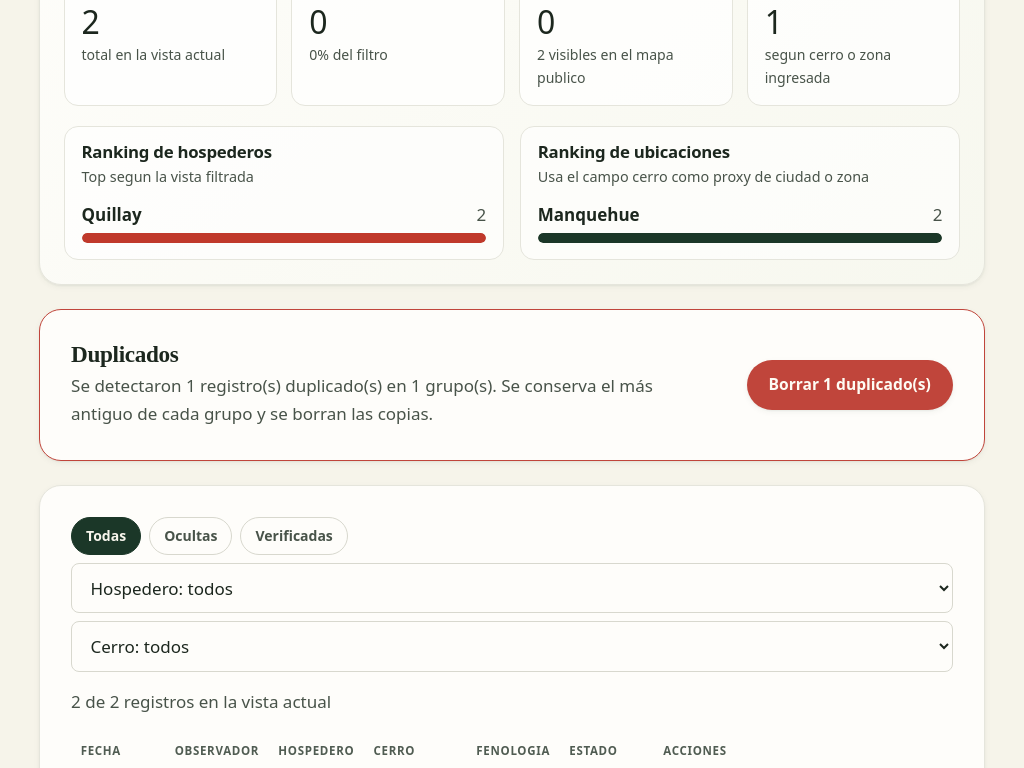
Scenario: flujo borrar duplicados › borra el duplicado al confirmar
(page scrolled)
Click the button "Borrar 1 duplicado(s)" at (850, 385), box [746, 360, 953, 410]
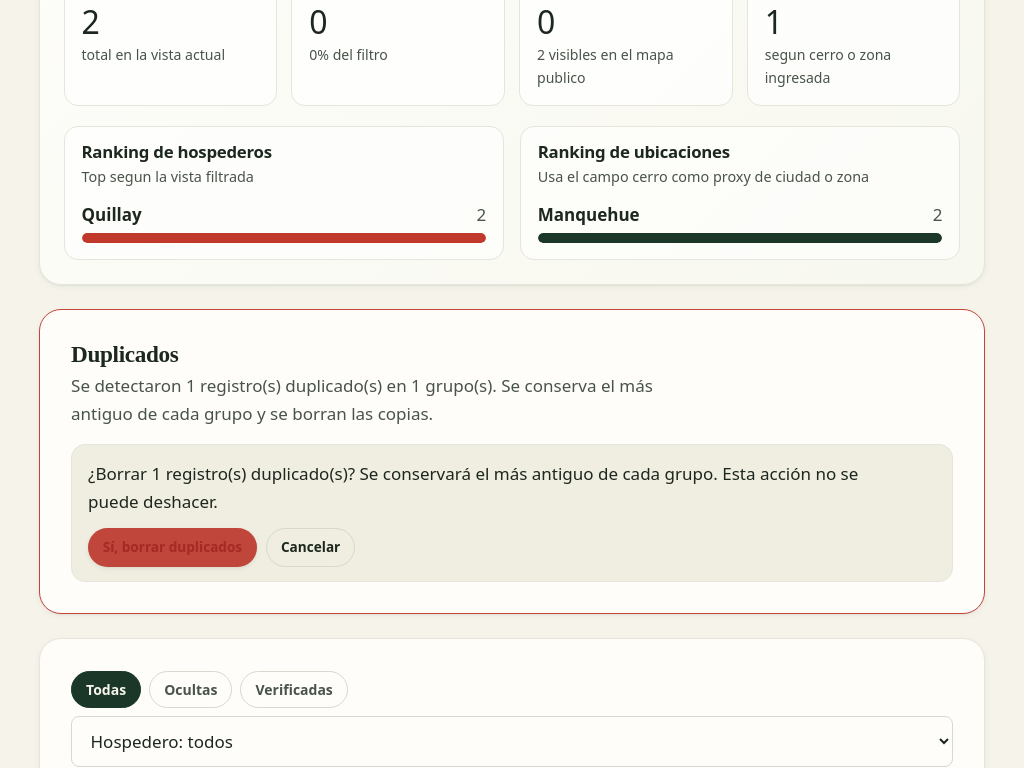
Click the button "Sí, borrar duplicados" at (172, 547), box [88, 528, 257, 566]
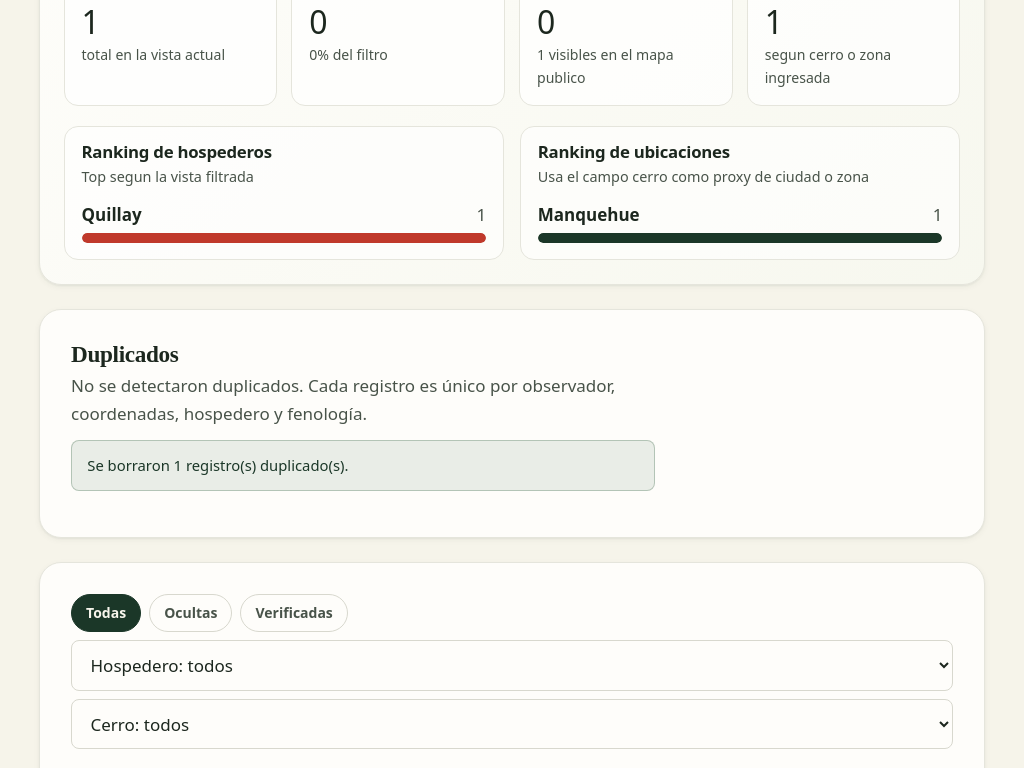
expect the text "Se borraron 1 registro(s) duplicado(s)." is shown: met, box [71, 440, 654, 491]
